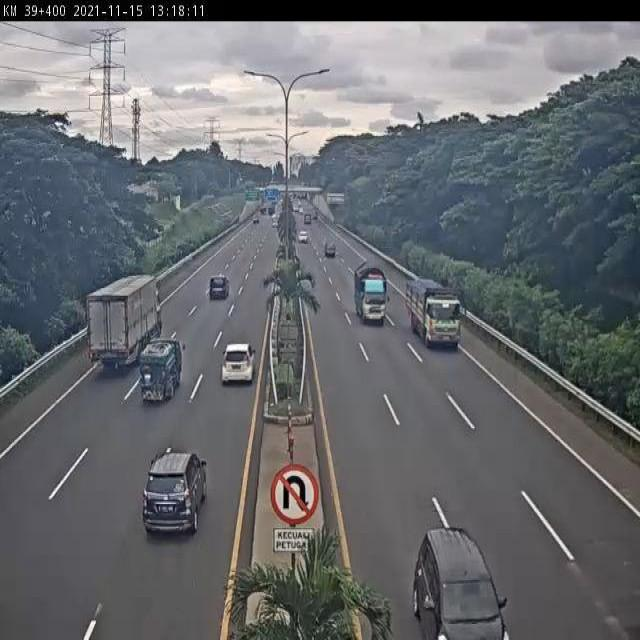car: (140, 448, 210, 535), (220, 343, 257, 388)
truck-l-: (87, 275, 160, 376), (406, 280, 461, 351)
truck-s-: (139, 338, 179, 402), (355, 264, 391, 328)
